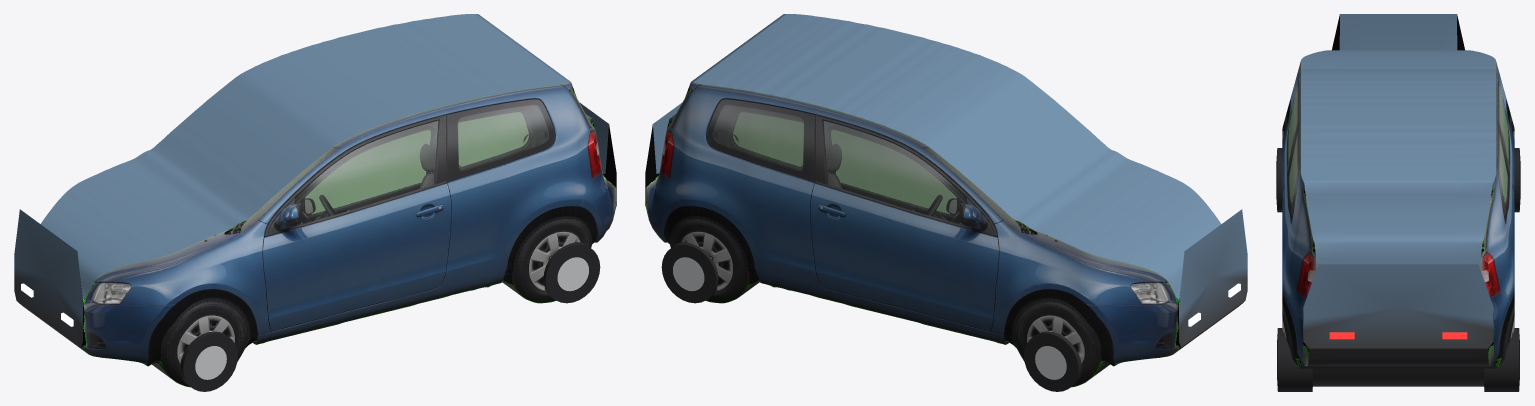
Rendered from compact.glb.
3 renders of one model, left to right at view 1: azimuth 30°, elevation 25°; view 2: azimuth 150°, elevation 25°; view 3: azimuth 270°, elevation 25°, orthographic.
Visible parts, largest first — view 1: compact; view 2: compact; view 3: compact.
Boxes of the visible parts, x1,y1,x2,y2 form: compact: (14,14,616,391); compact: (645,14,1247,391); compact: (1276,14,1520,391).
Size of the model in its own units: 3.08 by 1.22 by 1.22.
8 materials, 2 textured.
